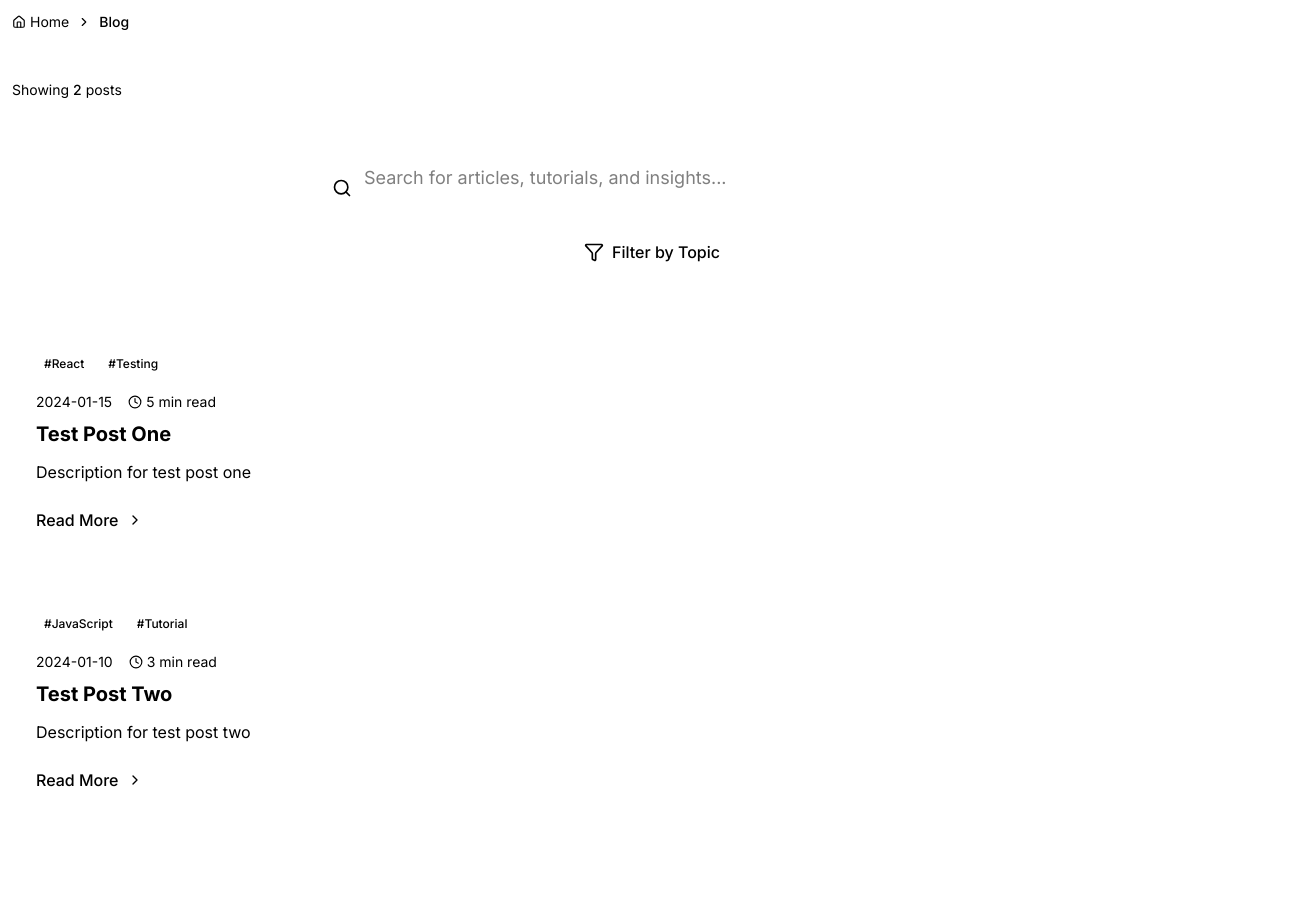
Test: BlogList Component › toggles filter panel
The image size is (1292, 912).
Expected: the text "Development" is not shown
Click the button "Filter by Topic" at (652, 252), box left=316, top=224, right=988, bottom=280
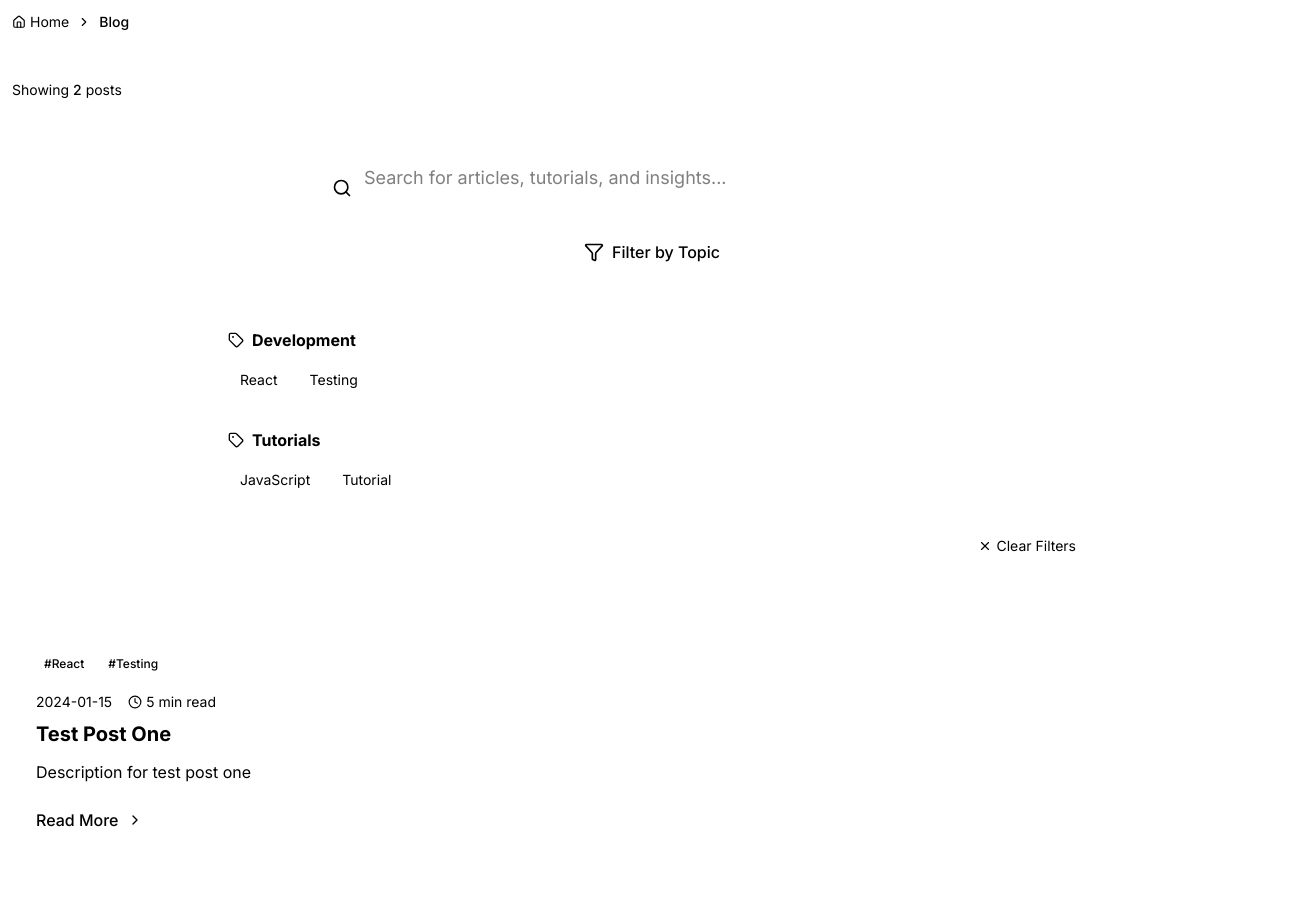
Result: the heading "Development" is shown at left=228, top=330, right=356, bottom=350
Click the button "Filter by Topic" at (652, 252), box left=316, top=224, right=988, bottom=280
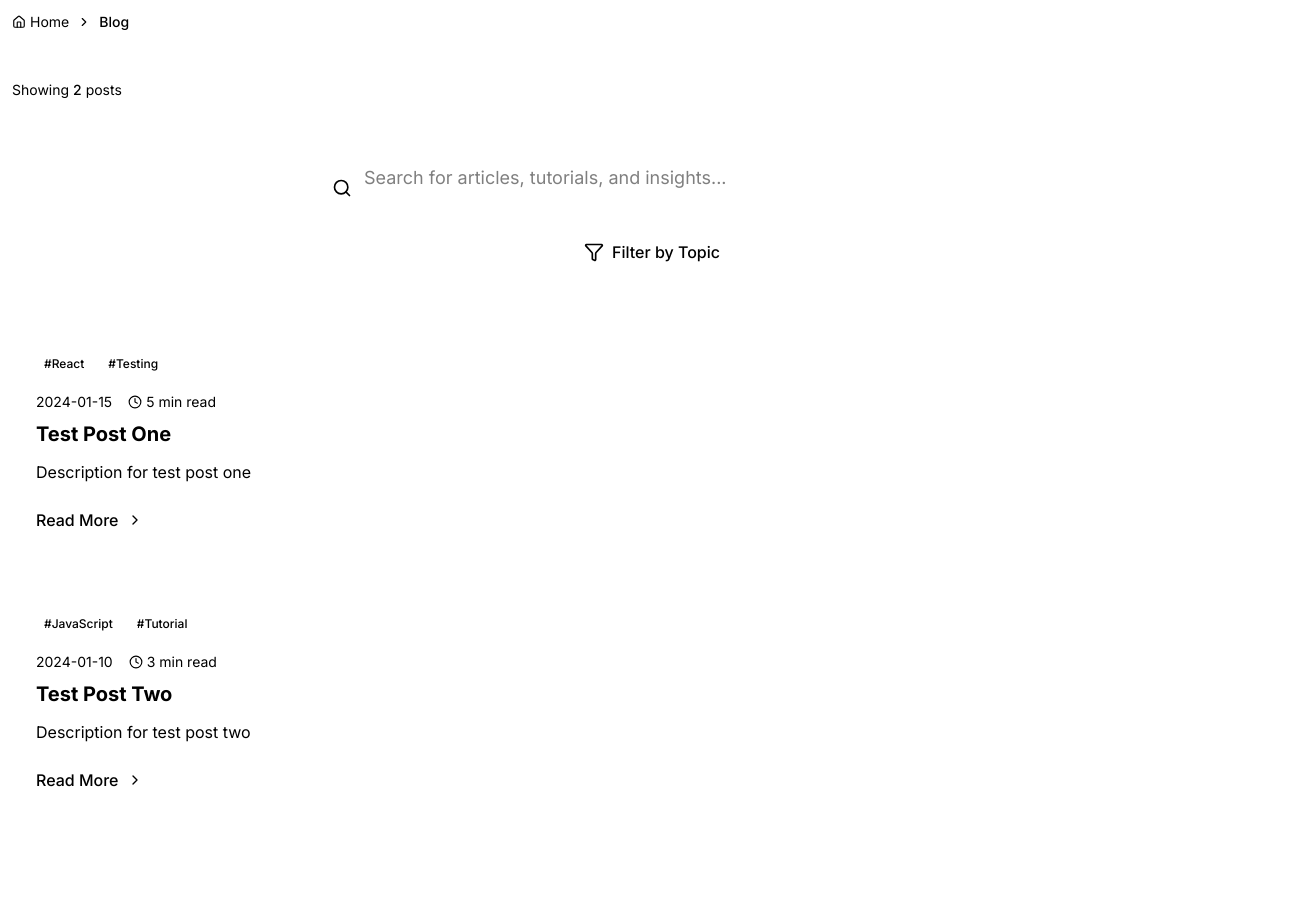
Result: the heading "Development" is gone
